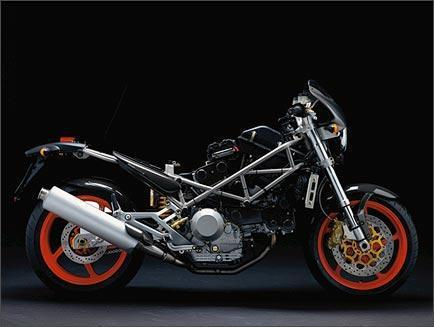motorcycle: (13, 67, 421, 308)
